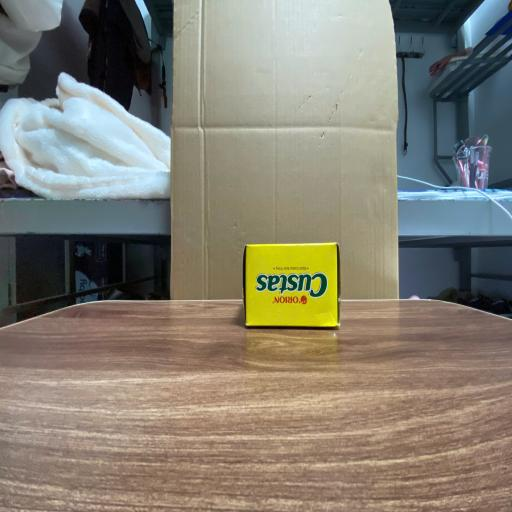custas: (242, 242, 341, 328)
